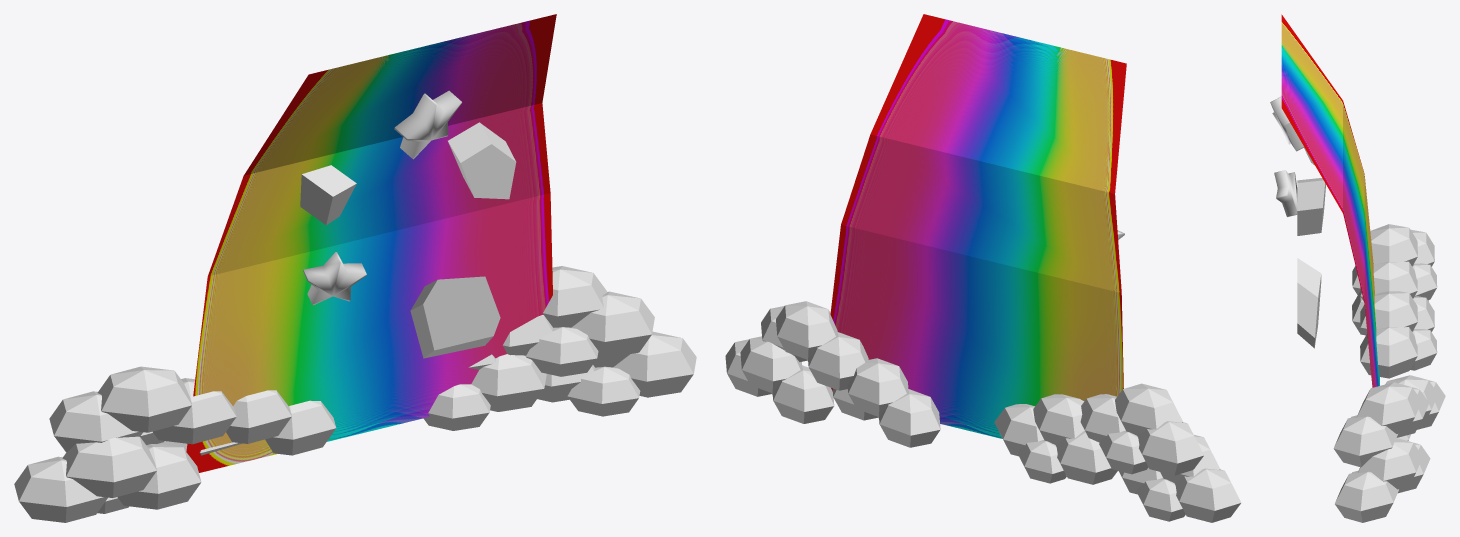
3 renders of one model, left to right at view 1: azimuth 30°, elevation 25°; view 2: azimuth 150°, elevation 25°; view 3: azimuth 270°, elevation 25°, orthographic. The views are drawn at different scales.
Parts seen in each view (by area): view 1: rainbow, Sphere.001, Plane.003, Plane.002; view 2: rainbow, Sphere.001; view 3: Sphere.001, rainbow, Plane.003, Plane.002.
Boxes of the visible parts, x1,y1,x2,y2 form: rainbow: [186, 14, 556, 472]; Sphere.001: [14, 266, 696, 522]; Plane.003: [300, 122, 516, 358]; Plane.002: [303, 90, 462, 305]; rainbow: [830, 14, 1126, 438]; Sphere.001: [725, 301, 1241, 522]; Sphere.001: [1333, 224, 1445, 522]; rainbow: [1281, 14, 1379, 387]; Plane.003: [1297, 147, 1325, 348]; Plane.002: [1270, 96, 1304, 217].
Size of the model in its own units: 322 by 219 by 96.57.
